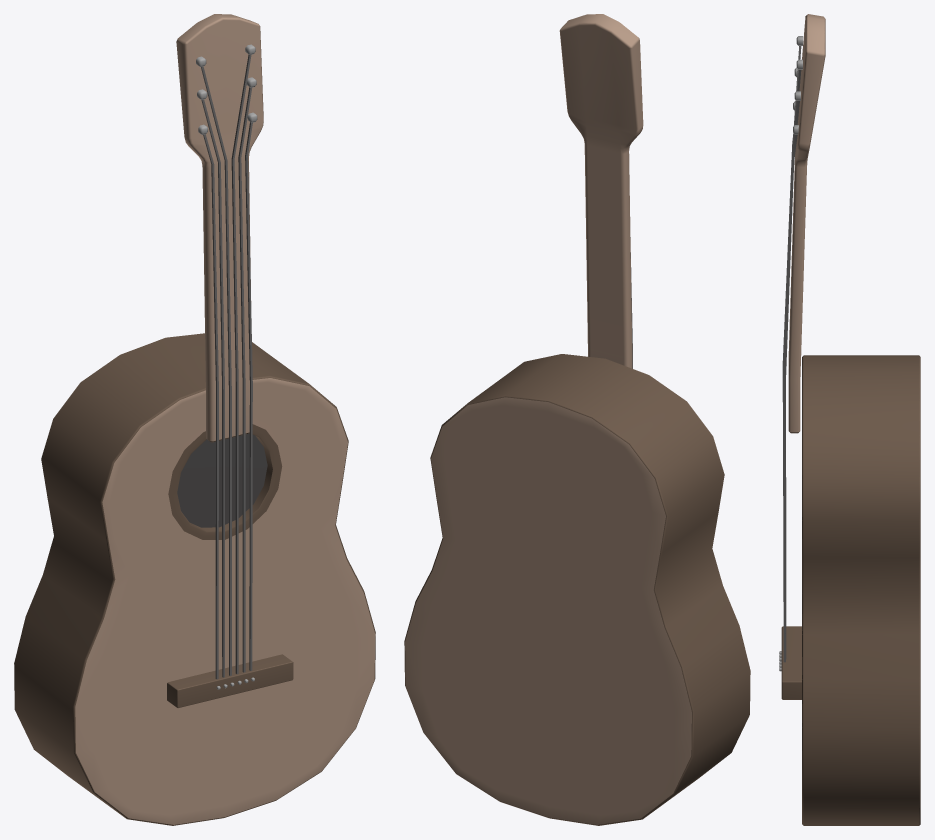
The model's file is Guitar.glb.
3 views of the same model, side by side, from view 1: azimuth 30°, elevation 25°; view 2: azimuth 150°, elevation 25°; view 3: azimuth 270°, elevation 25° (orthographic). The views are drawn at different scales.
Parts seen in each view (by area): view 1: Guitar; view 2: Guitar; view 3: Guitar.
Part boxes in pixels (bbox=[...]): Guitar: bbox=[14, 14, 375, 825]; Guitar: bbox=[404, 14, 750, 825]; Guitar: bbox=[779, 14, 920, 825].
Size of the model in its own units: 0.3927 by 0.9902 by 0.1621.
Materials: 1 (1 with a texture image).
